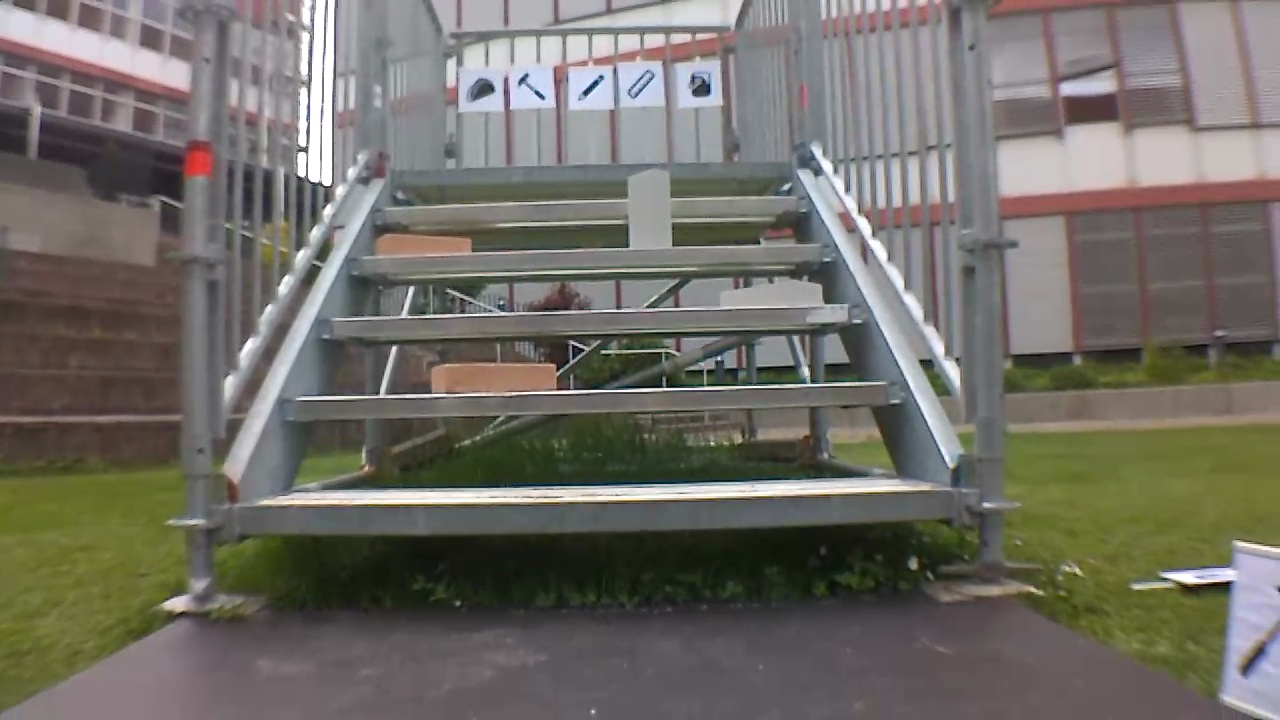brick: (431, 362, 555, 392), (629, 169, 671, 248), (720, 283, 822, 305), (378, 234, 472, 255)
bucket: (688, 65, 714, 100)
edge: (234, 489, 953, 534), (284, 382, 906, 417), (321, 303, 865, 336), (349, 245, 841, 270), (373, 196, 810, 221), (389, 162, 796, 184)
hammer: (513, 70, 551, 106)
pencil: (571, 69, 609, 106)
ruler: (623, 65, 658, 102)
stairs: (163, 3, 1019, 609)
steps: (230, 152, 962, 539)
taco: (463, 74, 498, 106)
